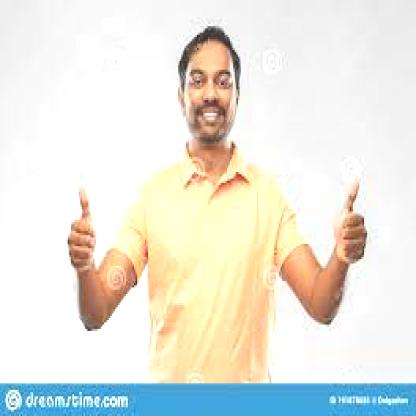Thumbs up: (50, 159, 98, 286), (332, 171, 368, 268)
